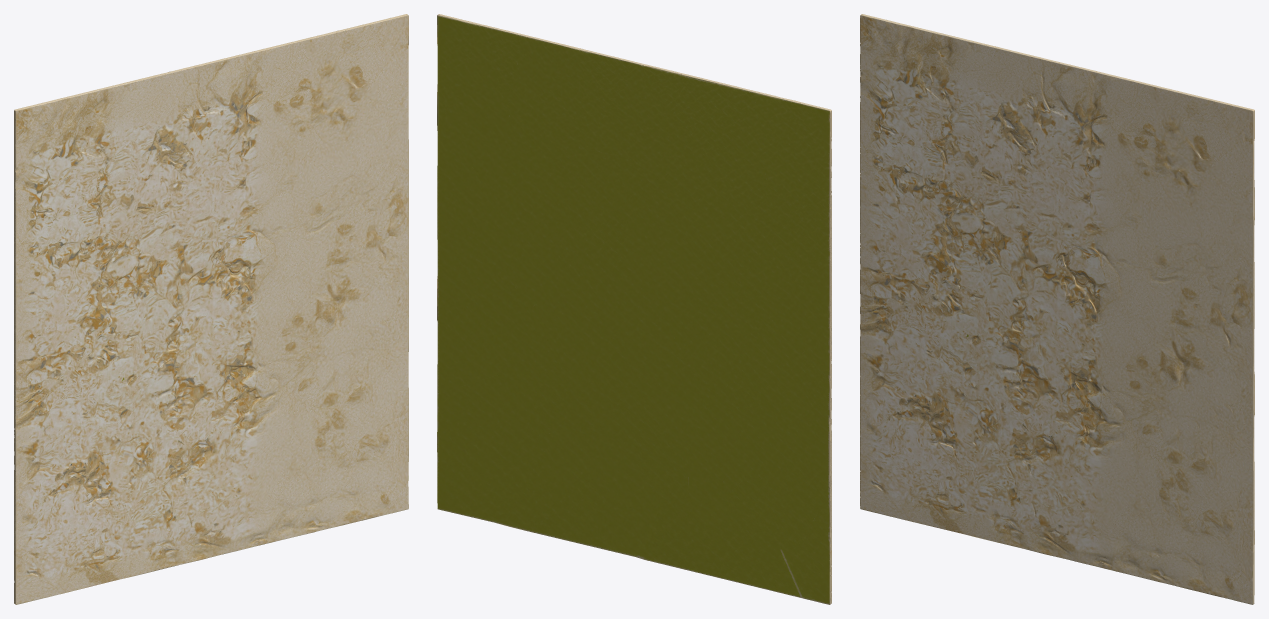
File: TIL-JOH-YK1FLCR000000PJ.glb
3 views of the same model, side by side, from view 1: azimuth 30°, elevation 25°; view 2: azimuth 150°, elevation 25°; view 3: azimuth 330°, elevation 25° (orthographic).
Visible parts, largest first — view 1: mesh_node; view 2: mesh_node; view 3: mesh_node.
Part boxes in pixels (x1,y1,x2,y2): mesh_node: (14,14,408,604); mesh_node: (437,14,831,604); mesh_node: (860,14,1254,604).
Size of the model in its own units: 0.9993 by 1.2 by 0.009.
Materials: 1 (1 with a texture image).
